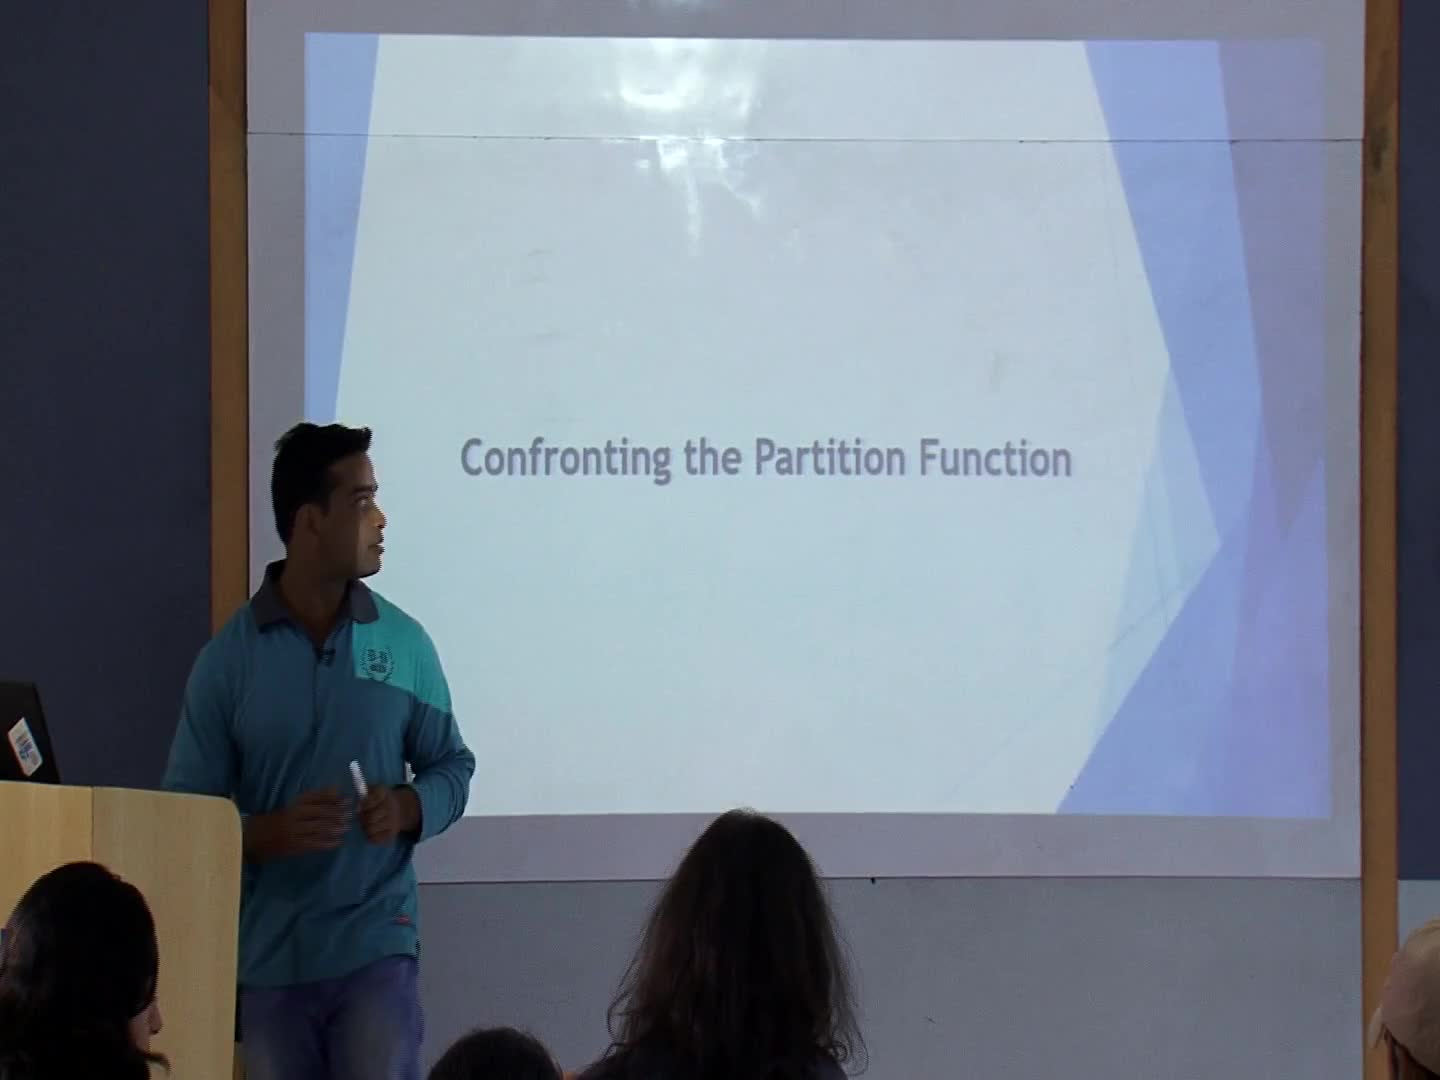slide: (304, 35, 1329, 818)
